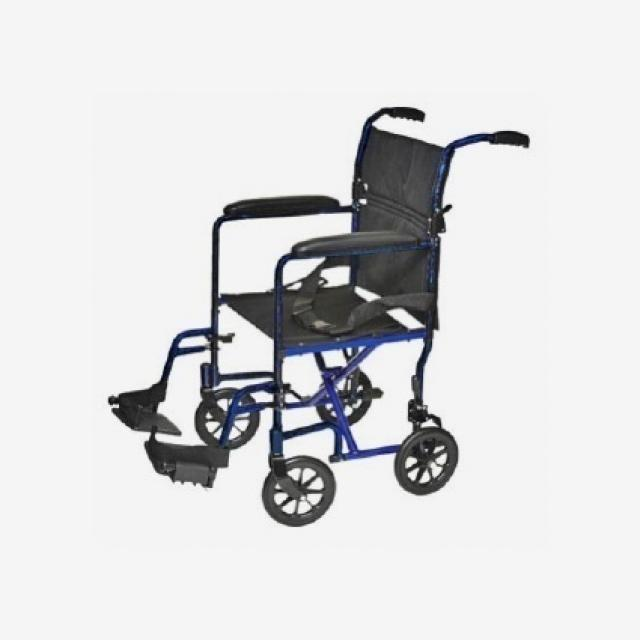wheelchair: (98, 86, 552, 536)
